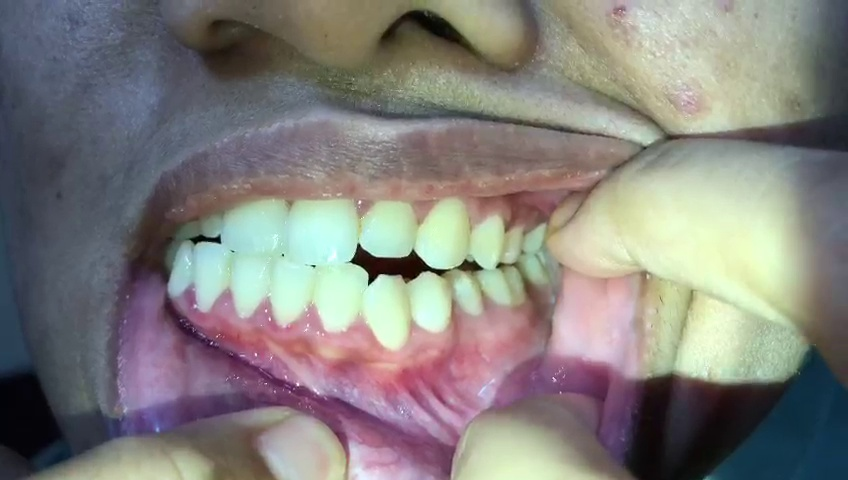1st Molar: (476, 266, 510, 311), (524, 222, 547, 255)
1st Premolar: (410, 269, 450, 333), (469, 211, 503, 270)
2nd Molar: (504, 262, 527, 306)
2nd Premolar: (448, 268, 486, 317), (504, 222, 524, 262)
3rd Molar: (521, 253, 550, 287)
Canine: (416, 196, 467, 271), (364, 272, 408, 353), (169, 237, 193, 299)
Central Incisor: (285, 185, 359, 265), (221, 178, 286, 256), (269, 259, 314, 330), (229, 251, 269, 319)
Lateral Incisor: (311, 261, 366, 334), (358, 196, 415, 258), (189, 242, 230, 314)
